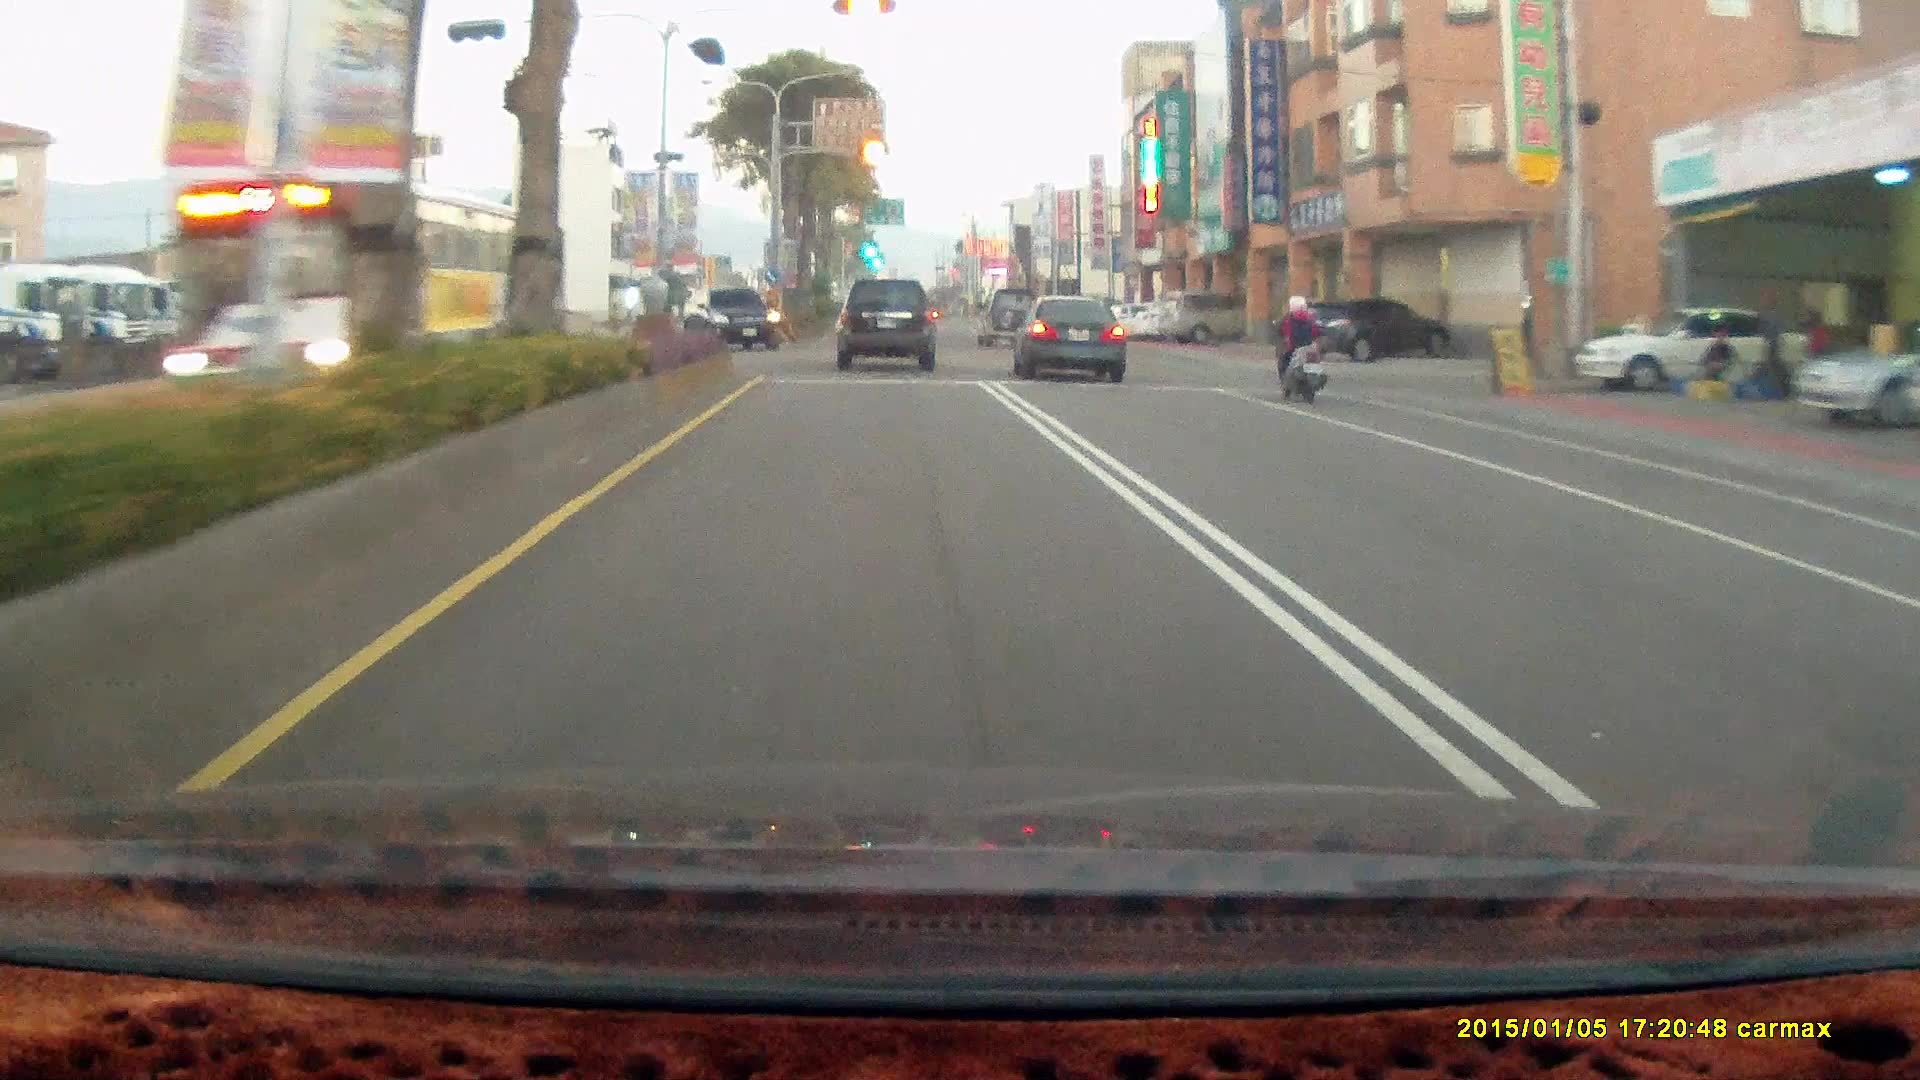pedestrian: (1761, 292, 1791, 402), (1805, 305, 1836, 401), (1704, 329, 1735, 397)
rider: (1257, 284, 1339, 412), (1269, 295, 1327, 403)
vehicle: (148, 168, 568, 403), (162, 171, 562, 403), (1572, 304, 1827, 388), (1570, 304, 1811, 391), (1793, 315, 1920, 417), (1012, 296, 1132, 389), (1291, 296, 1450, 361), (1290, 299, 1449, 365), (1005, 295, 1125, 382), (836, 281, 942, 375), (834, 278, 934, 372), (687, 286, 780, 358), (687, 286, 781, 350), (1157, 291, 1266, 345), (1157, 291, 1251, 348), (974, 286, 1040, 347)
